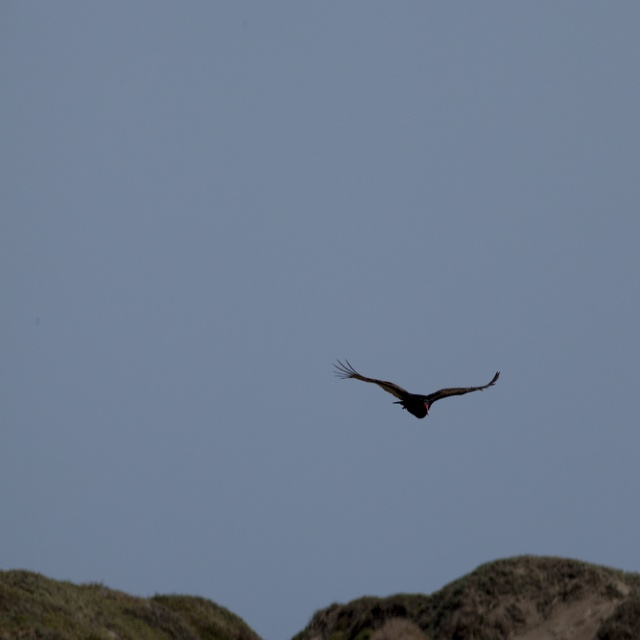Eagle: (332, 357, 501, 419)
